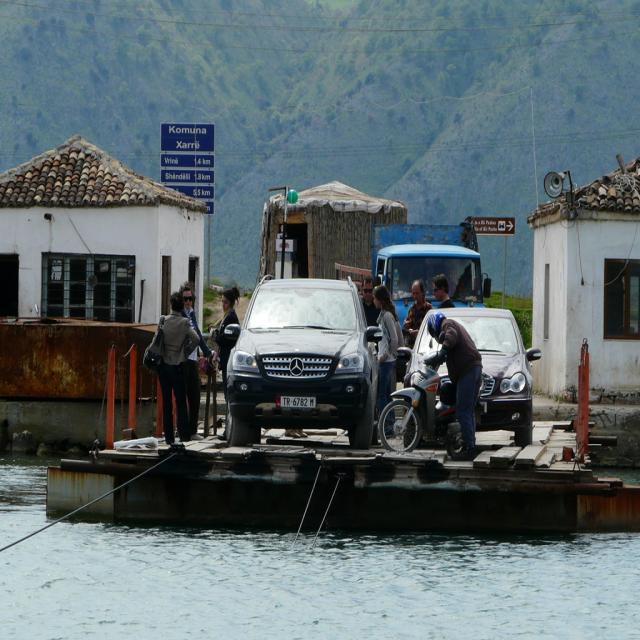car: (211, 274, 389, 443)
